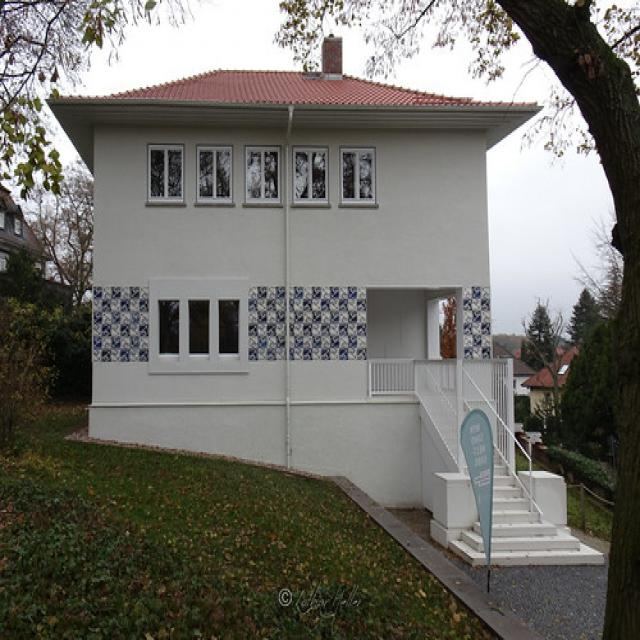Normal_building: (46, 34, 553, 575)
